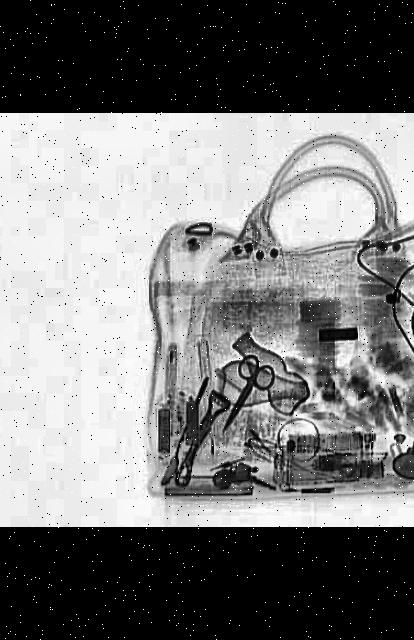Scissors: (201, 352, 281, 442)
